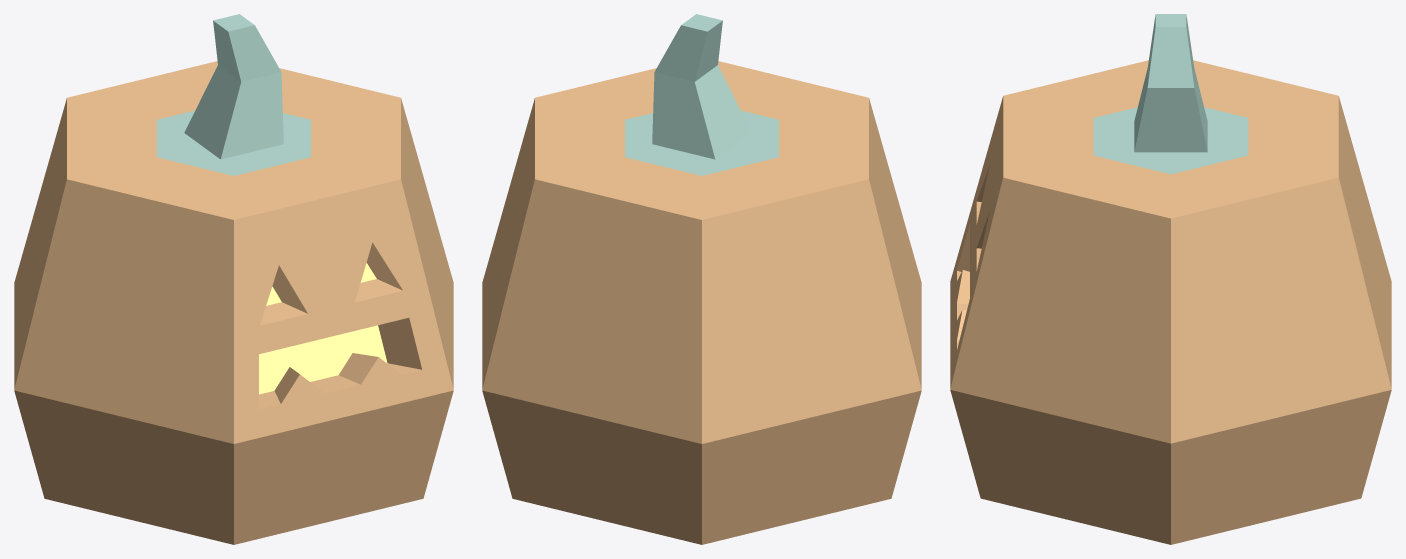
Rendered from pumpkinCarvedTall.glb.
The picture shows the model from 3 angles, left to right: view 1: azimuth 30°, elevation 25°; view 2: azimuth 150°, elevation 25°; view 3: azimuth 270°, elevation 25°; orthographic projection.
Visible parts, largest first — view 1: pumpkinCarvedTall(Clone); view 2: pumpkinCarvedTall(Clone); view 3: pumpkinCarvedTall(Clone).
Part boxes in pixels (x1,y1,x2,y2): pumpkinCarvedTall(Clone): (14, 14, 453, 544); pumpkinCarvedTall(Clone): (482, 14, 921, 544); pumpkinCarvedTall(Clone): (950, 14, 1391, 544).
Size of the model in its own units: 0.2784 by 0.26 by 0.2411.
